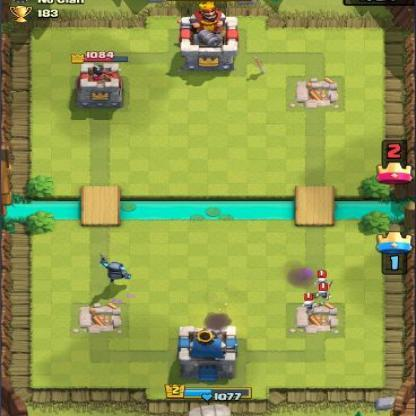ally_mini_pekka: (95, 251, 134, 285)
enemy_skeleton: (312, 268, 337, 294), (312, 283, 335, 306), (301, 291, 320, 318)
